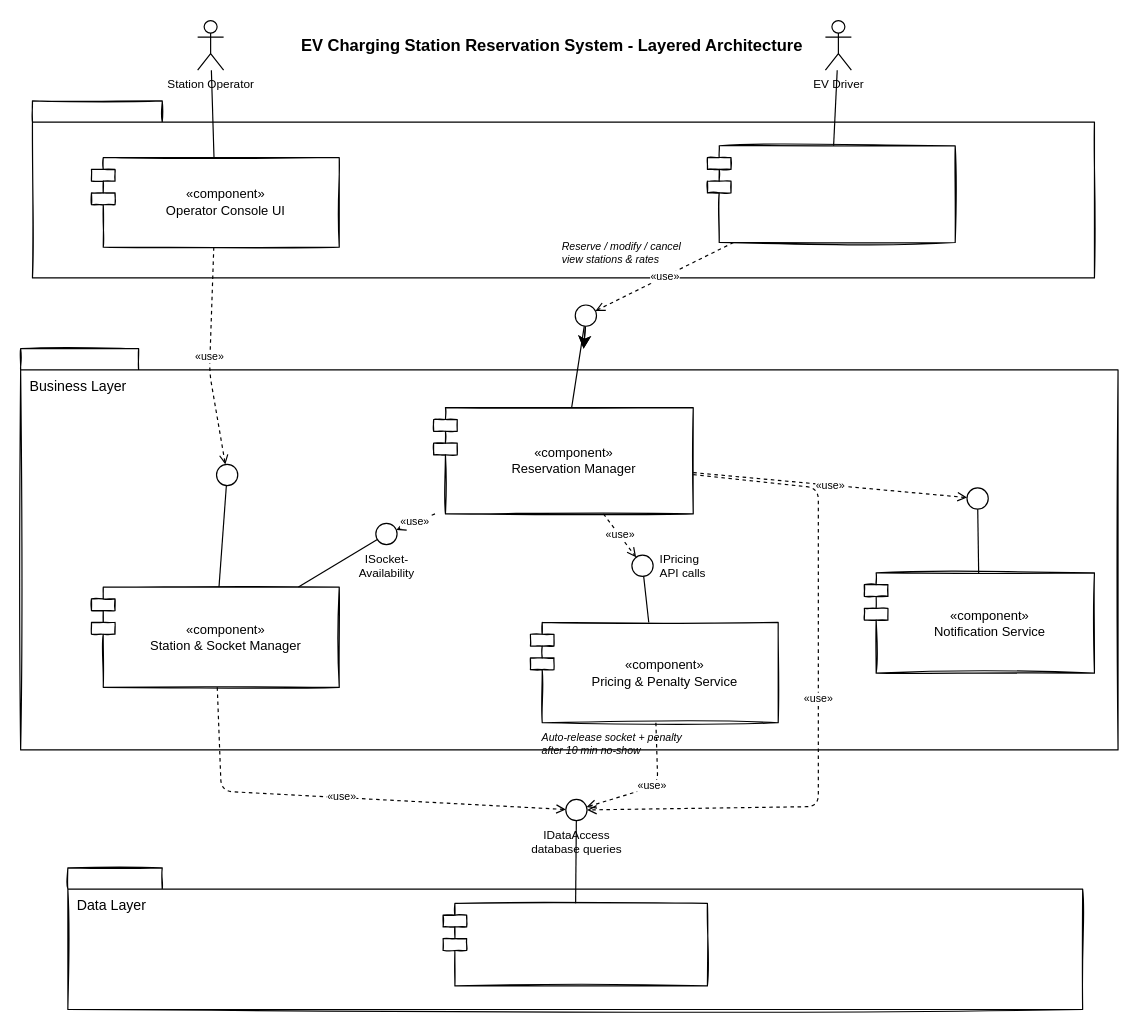
Some shapes in this 1139 by 1030 pixel diagram are drawn without their labels. Here are the shapes that lost their labels. From the top down, the box of each, then its label:
(31, 100, 1094, 278): Presentation Layer
(706, 145, 955, 242): «component» Driver App UI
(574, 304, 596, 326): IReservation API calls
(215, 463, 238, 486): IStationAdmin API calls
(966, 487, 988, 509): INotify API calls
(442, 902, 707, 986): «component» Database Component
